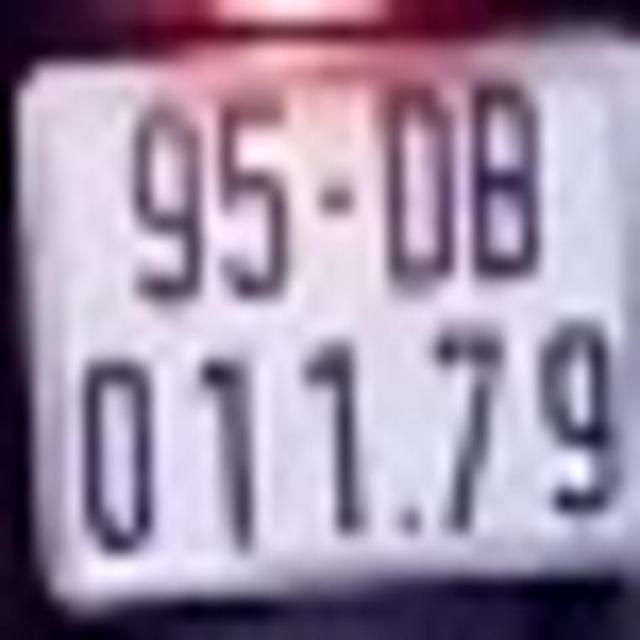0: (79, 358, 157, 556)
1: (298, 326, 372, 532), (200, 350, 268, 560)
5: (214, 95, 301, 304)
7: (427, 310, 500, 540)
8: (466, 70, 544, 284)
9: (534, 310, 621, 524), (129, 91, 203, 303)
D: (380, 77, 456, 286)
